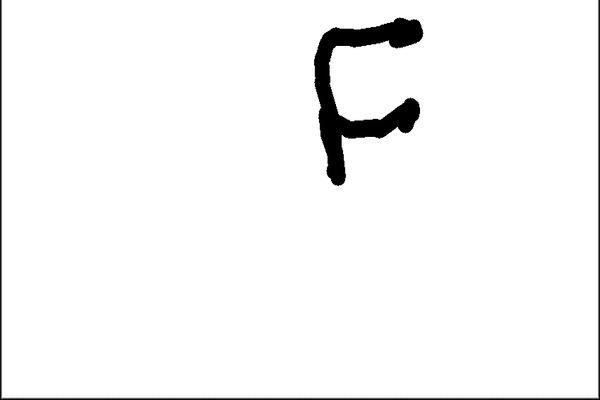F: (308, 15, 434, 188)
